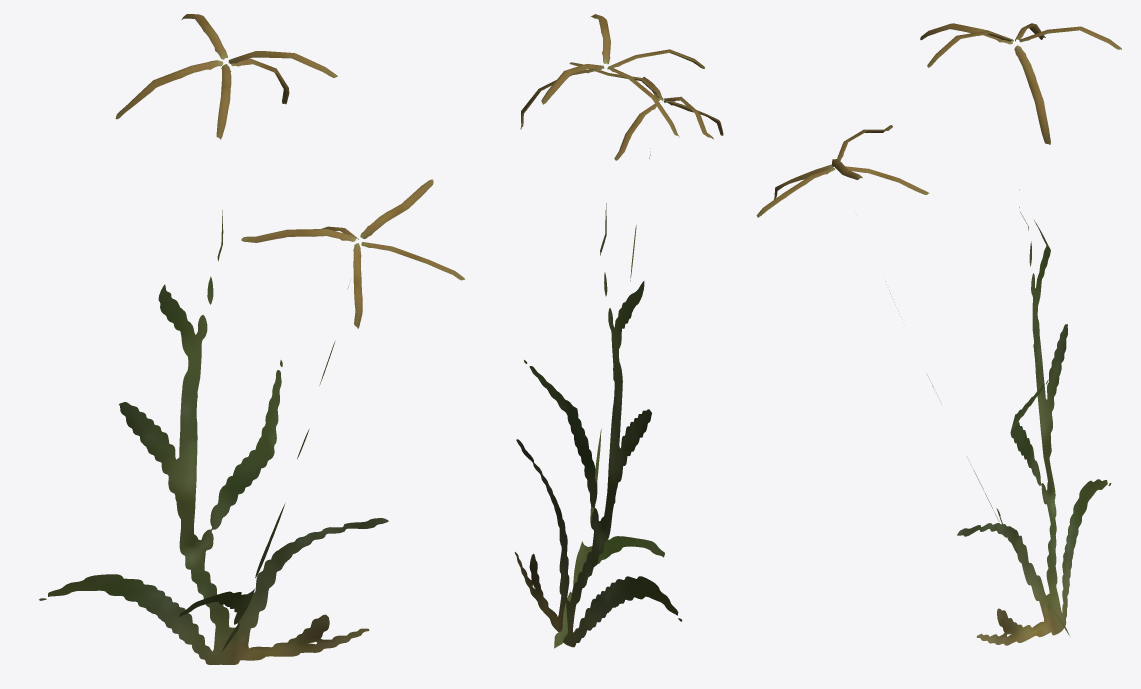
3 renders of one model, left to right at view 1: azimuth 30°, elevation 25°; view 2: azimuth 150°, elevation 25°; view 3: azimuth 270°, elevation 25°, orthographic. The views are drawn at different scales.
Visible parts, largest first — view 1: grass_bermuda_01__d_lod1; view 2: grass_bermuda_01__d_lod1; view 3: grass_bermuda_01__d_lod1.
Boxes of the visible parts, box(x1,y1,x2,y2) form: grass_bermuda_01__d_lod1: box(39, 14, 465, 664); grass_bermuda_01__d_lod1: box(514, 14, 723, 648); grass_bermuda_01__d_lod1: box(756, 23, 1121, 645).
Size of the model in its own units: 0.0747 by 0.1539 by 0.0846.
Materials: 1 (1 with a texture image).
